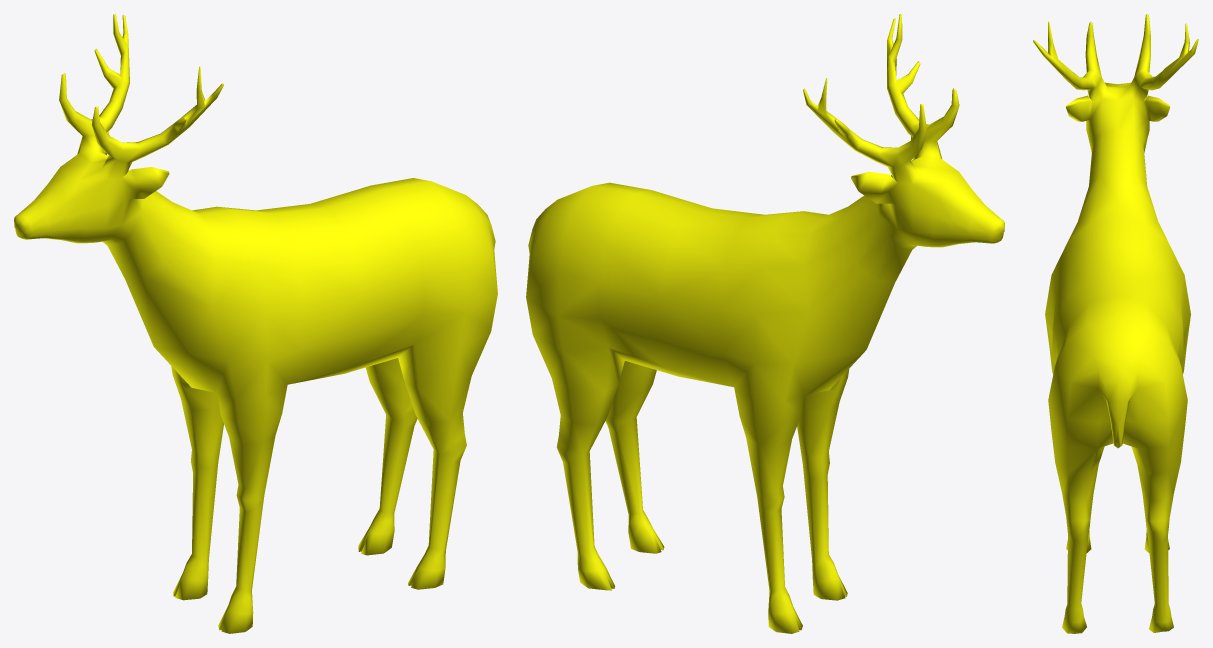
The model's file is deer.glb.
3 views of the same model, side by side, from view 1: azimuth 30°, elevation 25°; view 2: azimuth 150°, elevation 25°; view 3: azimuth 270°, elevation 25° (orthographic). The views are drawn at different scales.
Visible parts, largest first — view 1: deer; view 2: deer; view 3: deer.
Part boxes in pixels (left/top/right/bottom): deer: left=14, top=14, right=497, bottom=633; deer: left=526, top=14, right=1004, bottom=633; deer: left=1033, top=14, right=1198, bottom=633.
Size of the model in its own units: 0.2325 by 0.2739 by 0.0813.
1 material, 1 textured.
